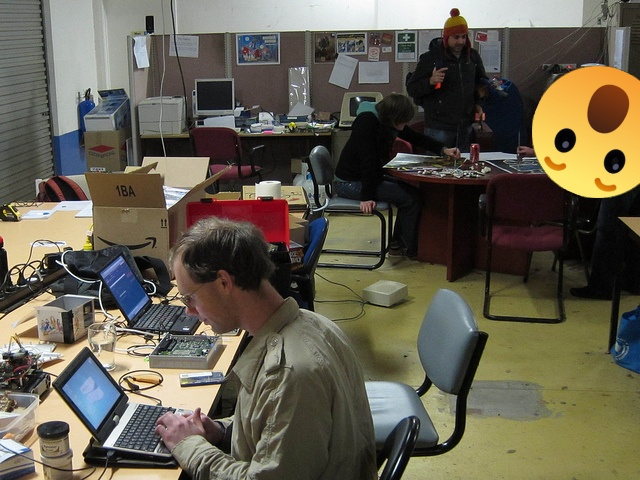wow: (532, 66, 640, 198)
